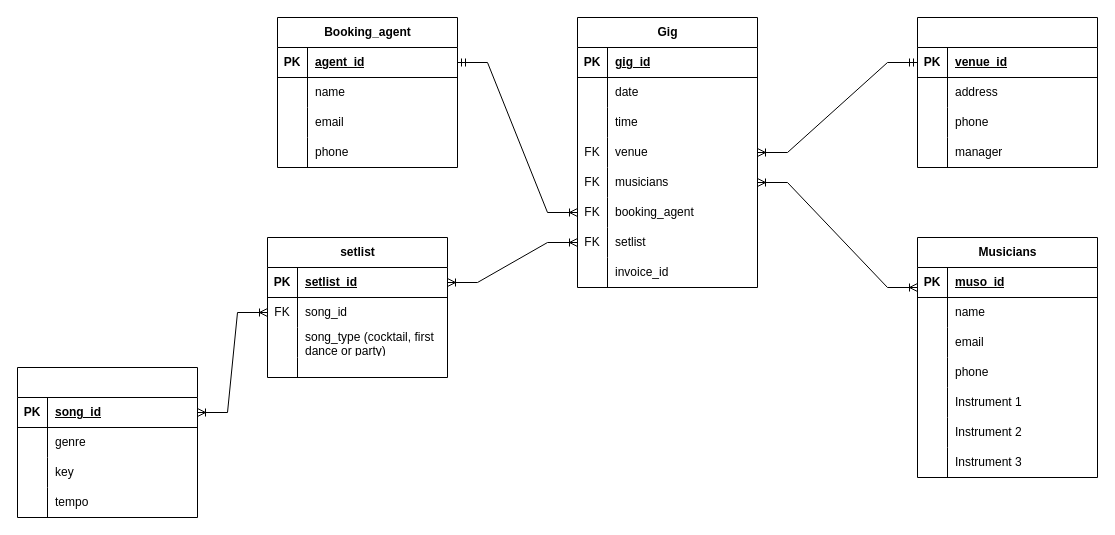
Some shapes in this 1115 by 535 pixel diagram are drawn without their labels. Each missing label, with the box of its shape:
Songs: (16, 366, 198, 518)
Venues: (916, 16, 1098, 168)
